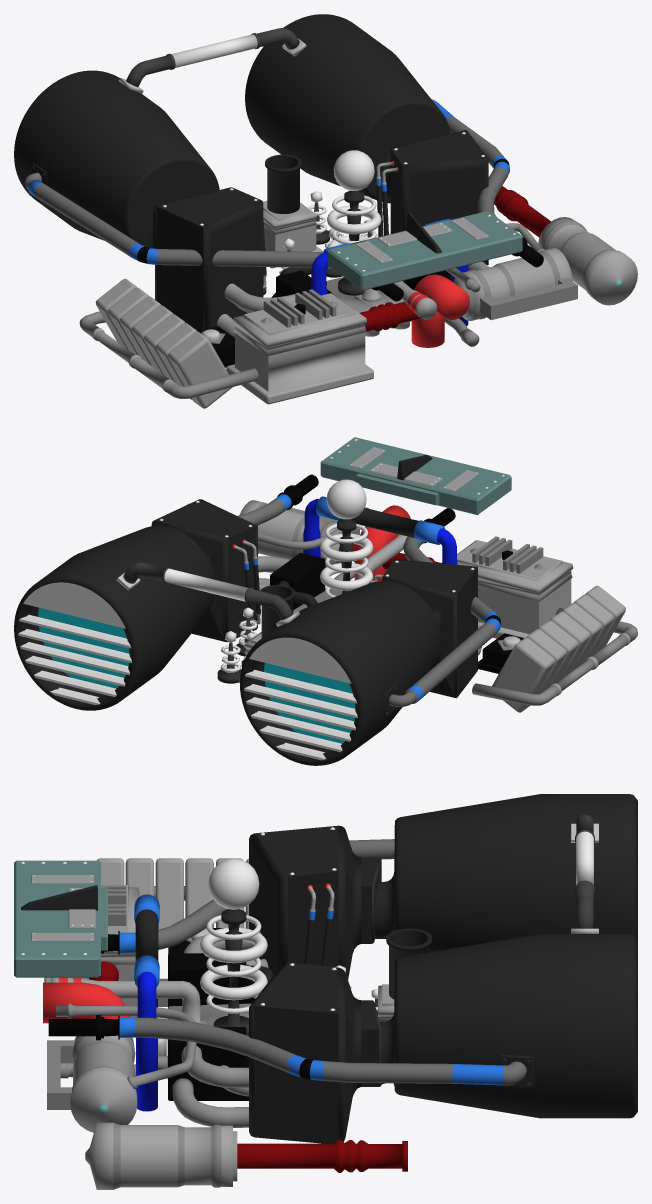
The model's file is DeloreanTimeMachine.fbx.
3 views of the same model, one above another, from view 1: azimuth 30°, elevation 25°; view 2: azimuth 150°, elevation 25°; view 3: azimuth 270°, elevation 25° (orthographic). The views are drawn at different scales.
Parts seen in each view (by area): view 1: Cube.004; view 2: Cube.004; view 3: Cube.004.
Part boxes in pixels (x1,y1,x2,y2): Cube.004: (14, 14, 637, 408); Cube.004: (14, 437, 637, 765); Cube.004: (14, 794, 637, 1189).
Bounding box in the file's own units: 659 × 230 × 611.
